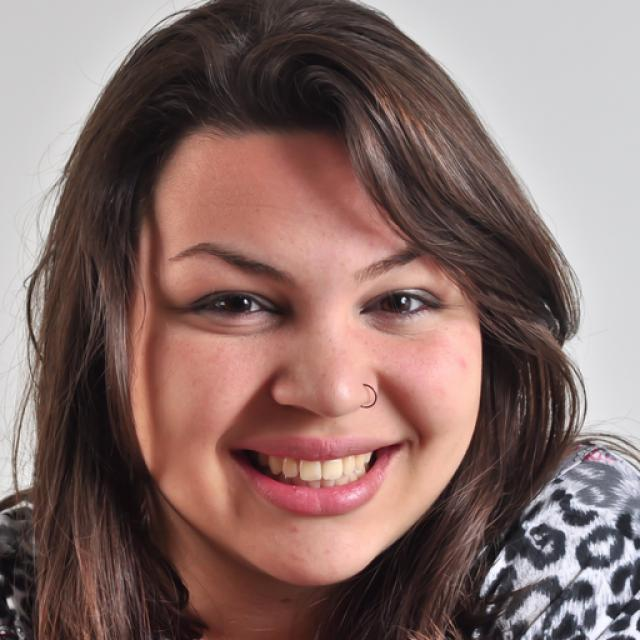Dark Circle: (198, 311, 286, 336), (363, 311, 438, 335)
